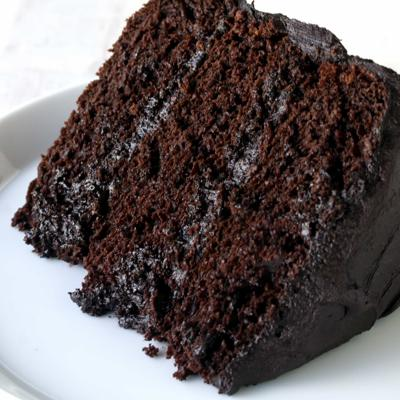cake: (25, 1, 400, 390)
